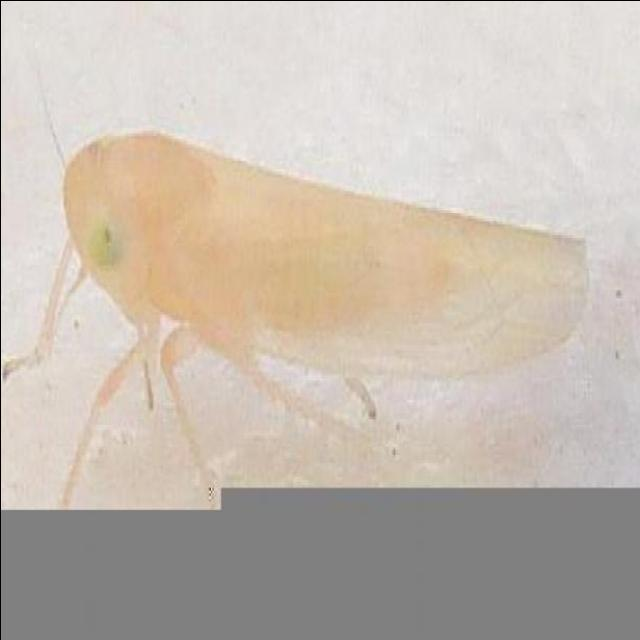green leaf hopper: (1, 130, 585, 504)
